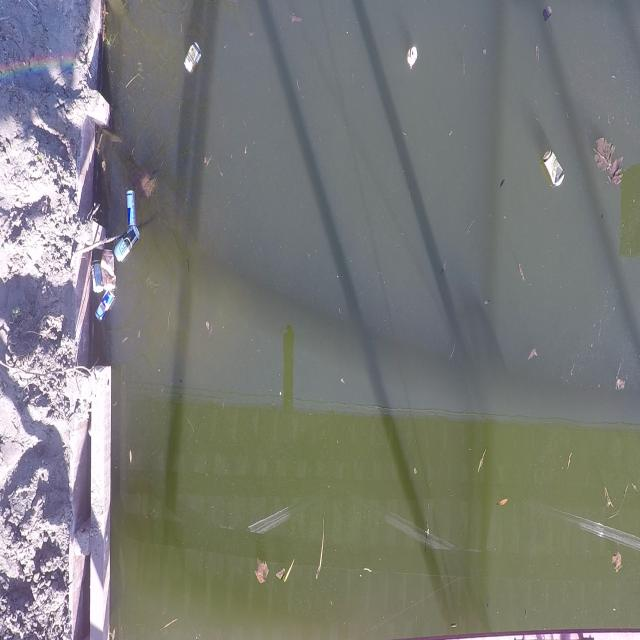Non plastique: (114, 227, 139, 263), (544, 150, 564, 186), (95, 290, 114, 321), (101, 251, 116, 288), (185, 44, 200, 73), (92, 260, 102, 293), (127, 192, 135, 227), (408, 48, 418, 66)
